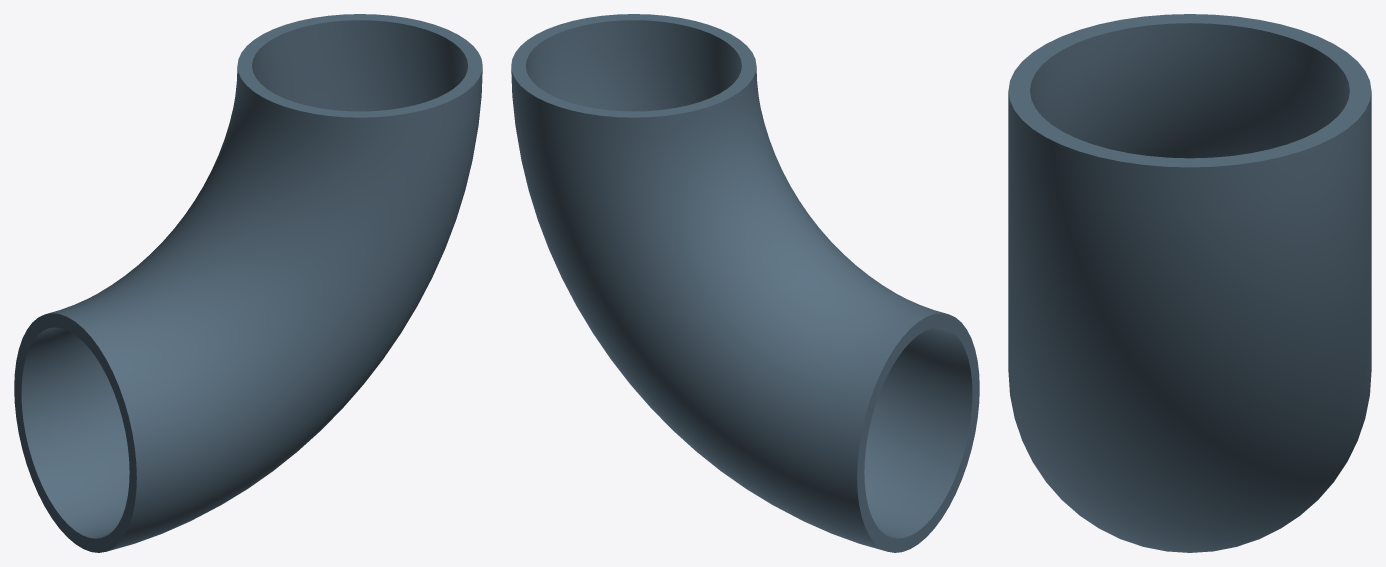
File: otvod-90-168x10-R225.glb
3 renders of one model, left to right at view 1: azimuth 30°, elevation 25°; view 2: azimuth 150°, elevation 25°; view 3: azimuth 270°, elevation 25°, orthographic. The views are drawn at different scales.
Visible parts, largest first — view 1: Open CASCADE STEP translator 7.9 63; view 2: Open CASCADE STEP translator 7.9 63; view 3: Open CASCADE STEP translator 7.9 63.
Boxes of the visible parts, x1,y1,x2,y2 form: Open CASCADE STEP translator 7.9 63: (14, 14, 482, 552); Open CASCADE STEP translator 7.9 63: (511, 14, 979, 552); Open CASCADE STEP translator 7.9 63: (1008, 14, 1371, 552).
Bounding box in the file's own units: 309 × 309 × 168.
